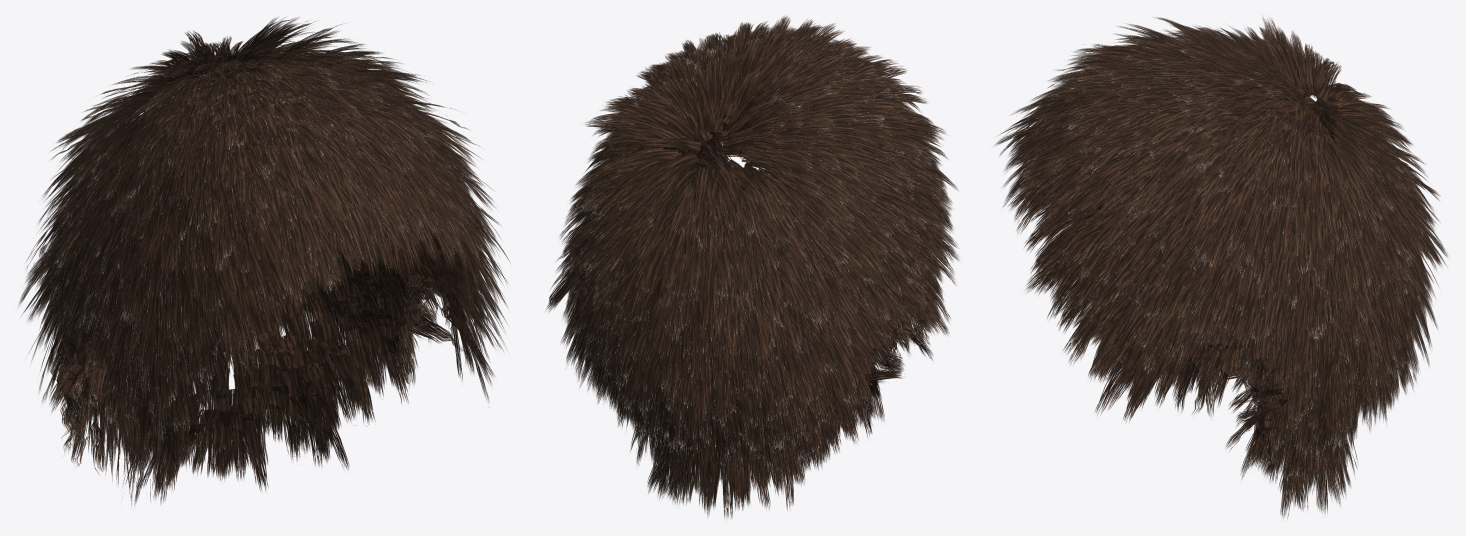
Rendered from court_lisse.glb.
The picture shows the model from 3 angles, left to right: view 1: azimuth 30°, elevation 25°; view 2: azimuth 150°, elevation 25°; view 3: azimuth 270°, elevation 25°; orthographic projection. The views are drawn at different scales.
Parts seen in each view (by area): view 1: MH_coiffure_court_lisse; view 2: MH_coiffure_court_lisse; view 3: MH_coiffure_court_lisse.
Part boxes in pixels (box(x1,y1,x2,y2)): MH_coiffure_court_lisse: box(18, 17, 509, 505); MH_coiffure_court_lisse: box(546, 15, 959, 518); MH_coiffure_court_lisse: box(995, 17, 1447, 518).
Size of the model in its own units: 0.202 by 0.2357 by 0.2132.
1 material, 1 textured.
